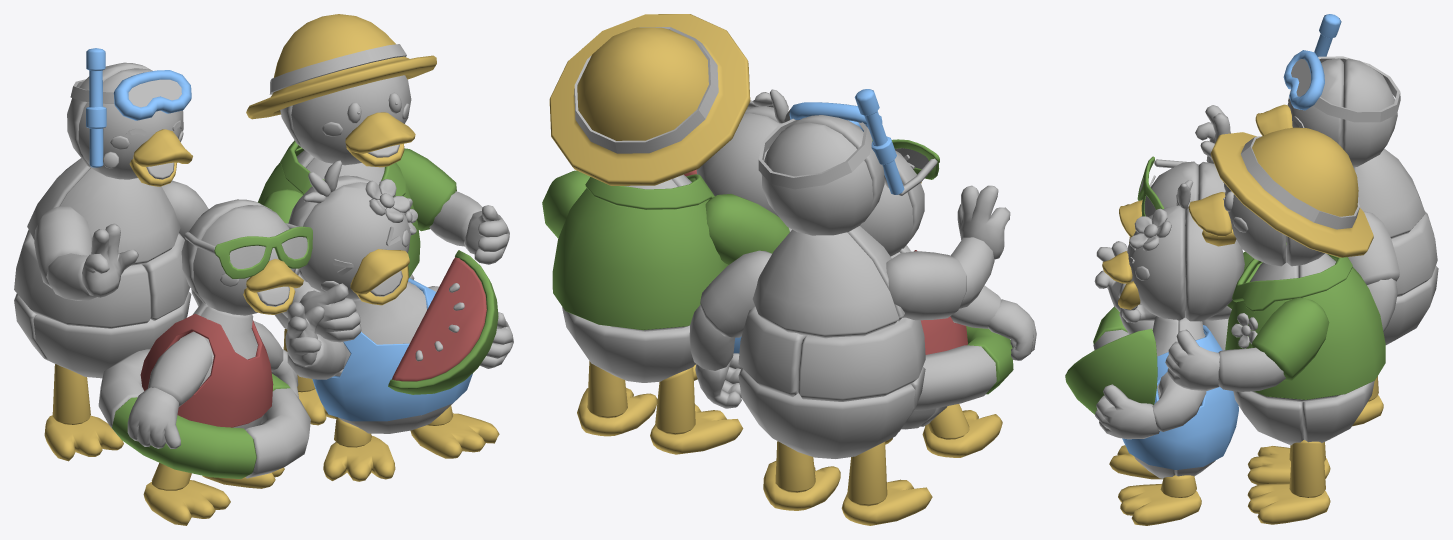
Rendered from FunnyDucks_Fix.fbx.
3 views of the same model, side by side, from view 1: azimuth 30°, elevation 25°; view 2: azimuth 150°, elevation 25°; view 3: azimuth 270°, elevation 25° (orthographic). The views are drawn at different scales.
Parts seen in each view (by area): view 1: S_FunnyDucks_3, S_FunnyDucks_18, S_FunnyDucks_4, M_FunnyDucks_5, M_FunnyDucks_24, M_HawaiiBeach_1, M_FunnyDucks_25, M_FunnyDucks_28, M_FunnyDucks_18.003, M_FunnyDucks_7, M_FunnyDucks_1, S_FunnyDucks_41 (+45 smaller); view 2: S_FunnyDucks_3, S_FunnyDucks_33, M_FunnyDucks_23, M_FunnyDucks_4, M_FunnyDucks_27, M_FunnyDucks_25, M_FunnyDucks_34, S_FunnyDucks_22, S_FunnyDucks_39, S_FunnyDucks_41, M_FunnyDucks_6, S_FunnyDucks_14 (+26 smaller); view 3: S_FunnyDucks_3, S_FunnyDucks_33, S_FunnyDucks_4, S_HawaiiBeach_9, M_FunnyDucks_6, S_FunnyDucks_38, M_FunnyDucks_5, S_FunnyDucks_20, M_FunnyDucks_4, M_FunnyDucks_23, S_FunnyDucks_37, M_FunnyDucks_34 (+37 smaller).
Boxes of the visible parts, left/top/right/bottom form: S_FunnyDucks_3: left=246, top=14, right=436, bottom=119; S_FunnyDucks_18: left=140, top=313, right=273, bottom=427; S_FunnyDucks_4: left=312, top=278, right=472, bottom=421; M_FunnyDucks_5: left=300, top=182, right=410, bottom=299; M_FunnyDucks_24: left=59, top=168, right=180, bottom=265; M_HawaiiBeach_1: left=392, top=257, right=486, bottom=381; M_FunnyDucks_25: left=14, top=229, right=151, bottom=328; M_FunnyDucks_28: left=33, top=291, right=191, bottom=378; M_FunnyDucks_18.003: left=112, top=397, right=256, bottom=478; M_FunnyDucks_7: left=291, top=75, right=411, bottom=165; M_FunnyDucks_1: left=193, top=205, right=294, bottom=315; S_FunnyDucks_41: left=44, top=364, right=123, bottom=461; S_FunnyDucks_3: left=549, top=14, right=750, bottom=185; S_FunnyDucks_33: left=552, top=174, right=728, bottom=330; M_FunnyDucks_23: left=752, top=229, right=898, bottom=338; M_FunnyDucks_4: left=761, top=122, right=872, bottom=235; M_FunnyDucks_27: left=738, top=368, right=915, bottom=458; M_FunnyDucks_25: left=797, top=317, right=925, bottom=401; M_FunnyDucks_34: left=562, top=307, right=695, bottom=382; S_FunnyDucks_22: left=886, top=251, right=966, bottom=320; S_FunnyDucks_39: left=650, top=367, right=743, bottom=454; S_FunnyDucks_41: left=841, top=442, right=932, bottom=525; M_FunnyDucks_6: left=696, top=113, right=780, bottom=217; S_FunnyDucks_14: left=705, top=194, right=789, bottom=264; S_FunnyDucks_3: left=1210, top=127, right=1373, bottom=257; S_FunnyDucks_33: left=1225, top=242, right=1385, bottom=399; S_FunnyDucks_4: left=1122, top=325, right=1238, bottom=469; S_HawaiiBeach_9: left=1065, top=328, right=1157, bottom=414; M_FunnyDucks_6: left=1185, top=206, right=1244, bottom=321; S_FunnyDucks_38: left=1247, top=440, right=1330, bottom=524; M_FunnyDucks_5: left=1127, top=205, right=1184, bottom=320; S_FunnyDucks_20: left=1251, top=297, right=1329, bottom=380; M_FunnyDucks_4: left=1341, top=58, right=1397, bottom=167; M_FunnyDucks_23: left=1354, top=148, right=1425, bottom=238; S_FunnyDucks_37: left=1118, top=475, right=1201, bottom=525; M_FunnyDucks_34: left=1302, top=381, right=1374, bottom=442.
Size of the model in its own units: 5.53 by 5.07 by 4.54.
